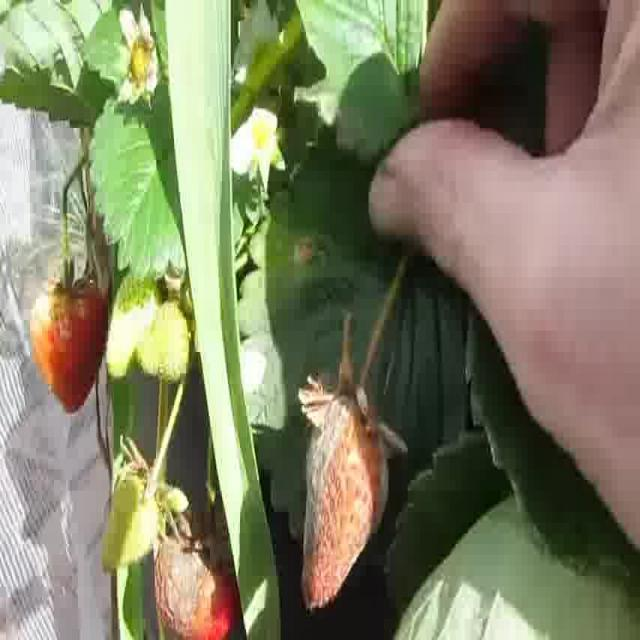Fruta sana: (29, 280, 106, 405)
Moho gris: (294, 358, 394, 610), (153, 510, 237, 640)
